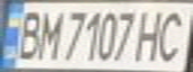0: (100, 7, 121, 61)
1: (81, 7, 103, 61)
7: (60, 7, 84, 62), (115, 7, 139, 61)
B: (12, 6, 45, 61)
C: (151, 6, 193, 63)
H: (133, 6, 169, 63)
M: (33, 7, 66, 61)
